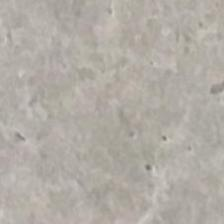Non_Crack: (22, 15, 180, 193)
